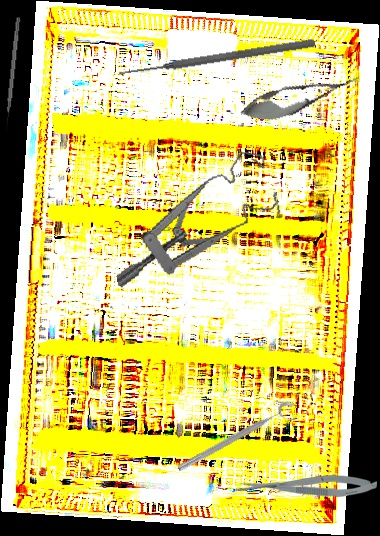Fixation Ring: (174, 398, 302, 482)
Hook Surgical: (3, 16, 21, 132)
Micro Scissor: (236, 64, 365, 130), (237, 472, 378, 499)
Pusher: (117, 36, 316, 80)
Speculum: (95, 145, 290, 290)
